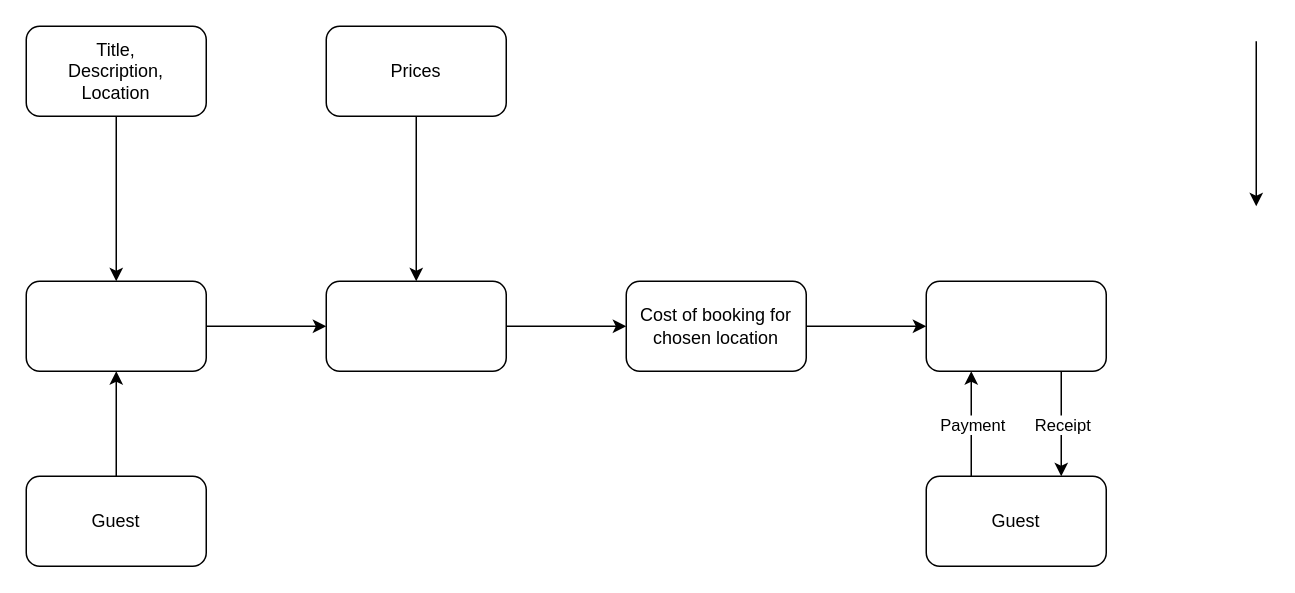
The diagram is 1295 pixels wide and 593 high, and some of its shapes have lost their labels. Each missing label, with the centre of its shape:
"Booking" belongs at point (115, 325).
"Look up location" belongs at point (415, 325).
"Transaction" belongs at point (1015, 325).
